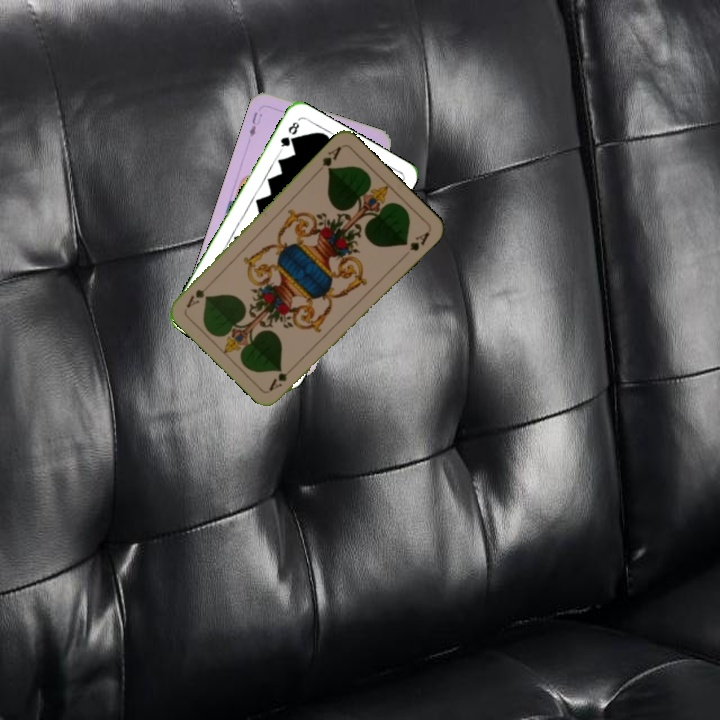EU: (245, 108, 265, 139)
G8: (276, 118, 302, 153)
GA: (265, 361, 298, 393), (313, 142, 344, 175)
